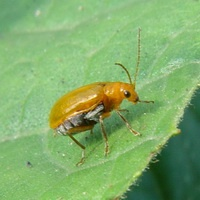insect: (49, 28, 153, 165)
